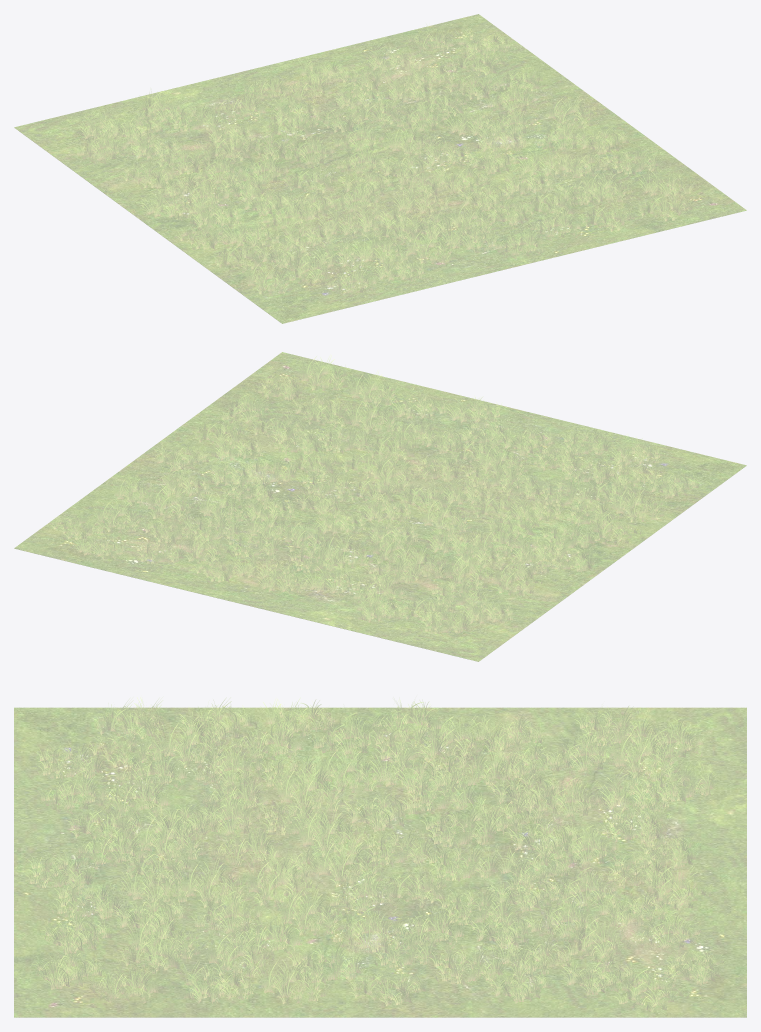
File: Grass.glb
3 views of the same model, one above another, from view 1: azimuth 30°, elevation 25°; view 2: azimuth 150°, elevation 25°; view 3: azimuth 270°, elevation 25° (orthographic). The views are drawn at different scales.
Parts seen in each view (by area): view 1: Grass; view 2: Grass; view 3: Grass.
Part boxes in pixels (x1,y1,x2,y2): Grass: (14,14,746,323); Grass: (14,352,746,661); Grass: (14,697,746,1017).
Bounding box in the file's own units: 5 × 0.2001 × 5.
2 materials, 2 textured.
